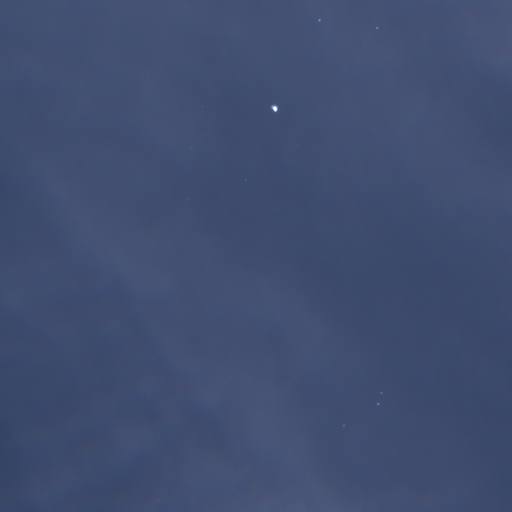Iceberg: (272, 106, 277, 111), (318, 19, 320, 21), (376, 27, 378, 28), (245, 179, 246, 180), (381, 392, 382, 393), (377, 403, 378, 404)
